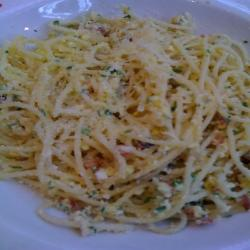carbonara: (9, 16, 250, 234)
